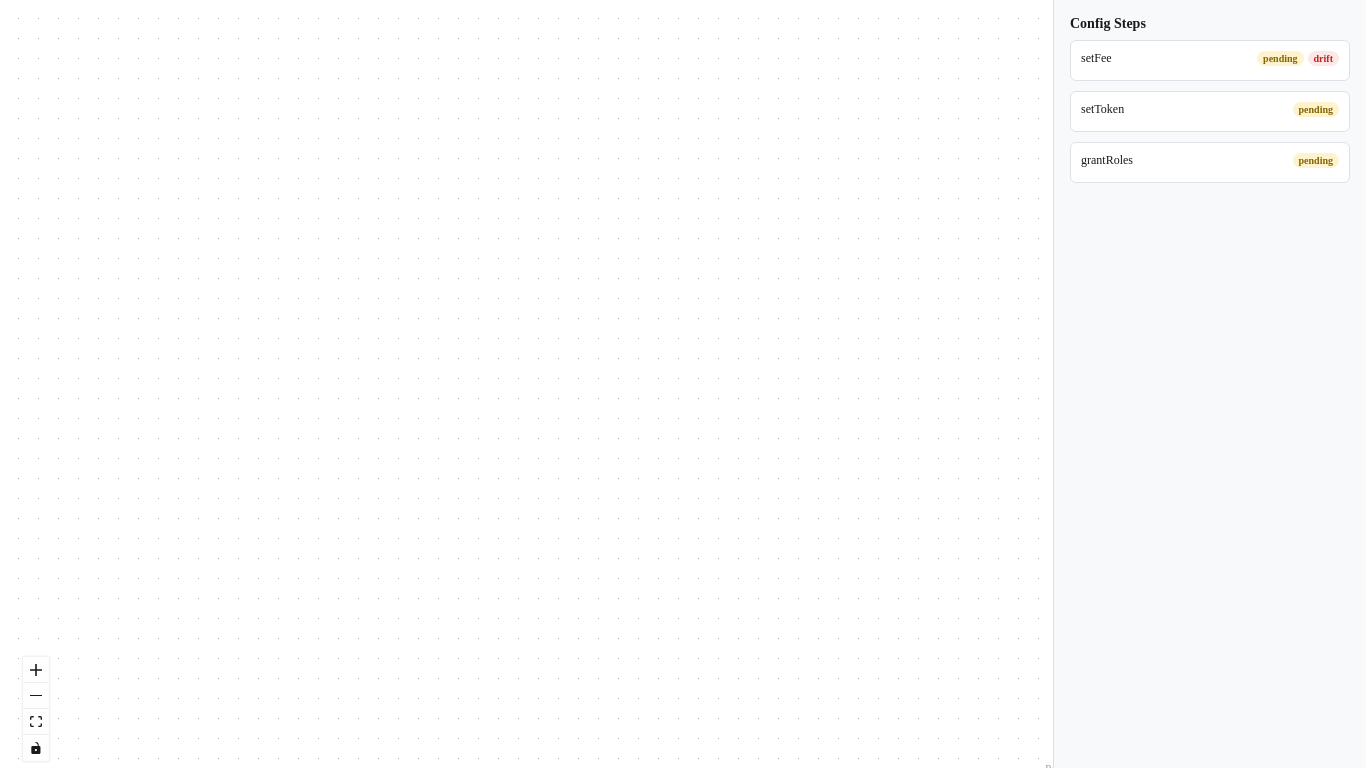
Test: Inspector — drift detail panel › clicking the drift badge for a drifted step reveals expected/actual/message
The image size is (1366, 768).
Step 1. Click the button with test id "config-step-setFee-drift" → (1323, 58), box left=1308, top=51, right=1339, bottom=66
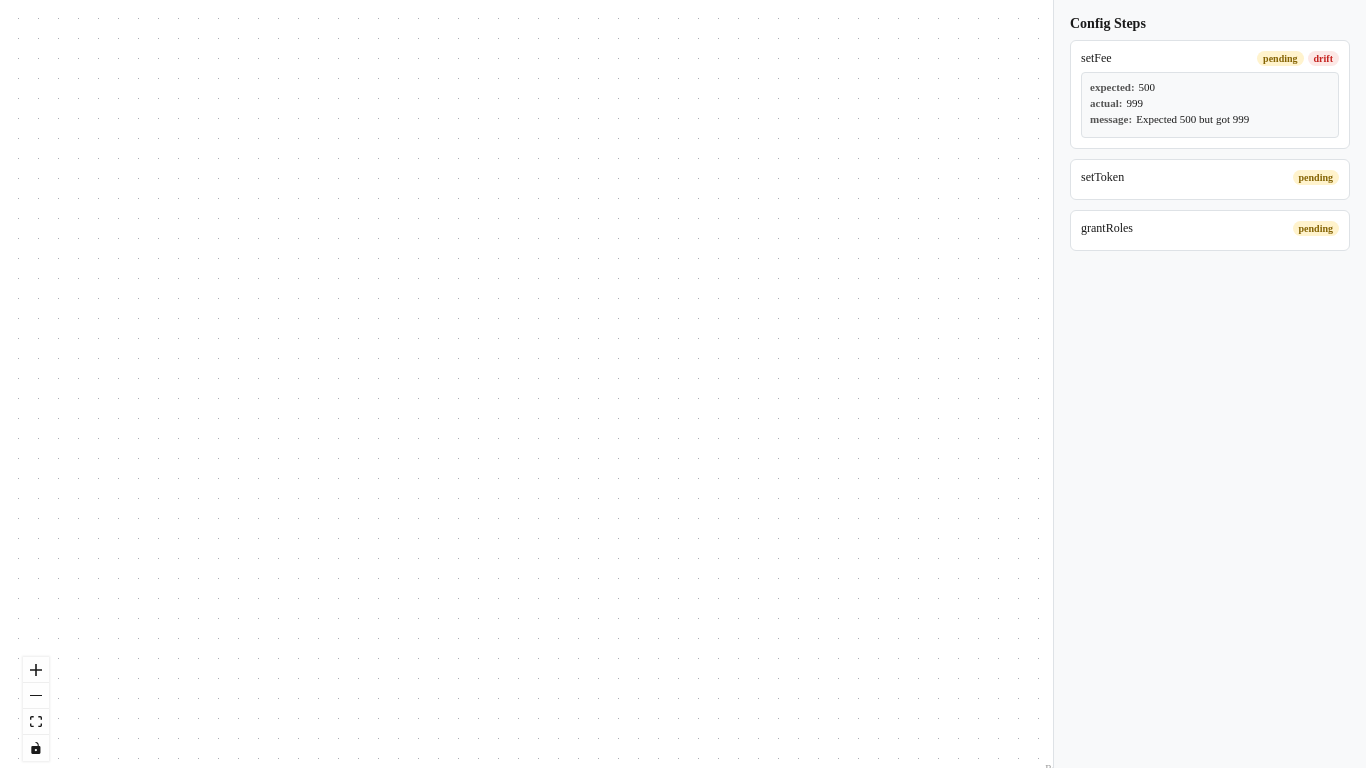
Expected: the element with test id "config-step-setFee-drift-detail" is shown, left=1081, top=72, right=1339, bottom=138
Expected: the element with test id "config-step-setFee-drift-expected" shows "500", left=1139, top=81, right=1155, bottom=93
Expected: the element with test id "config-step-setFee-drift-actual" shows "999", left=1126, top=97, right=1143, bottom=109
